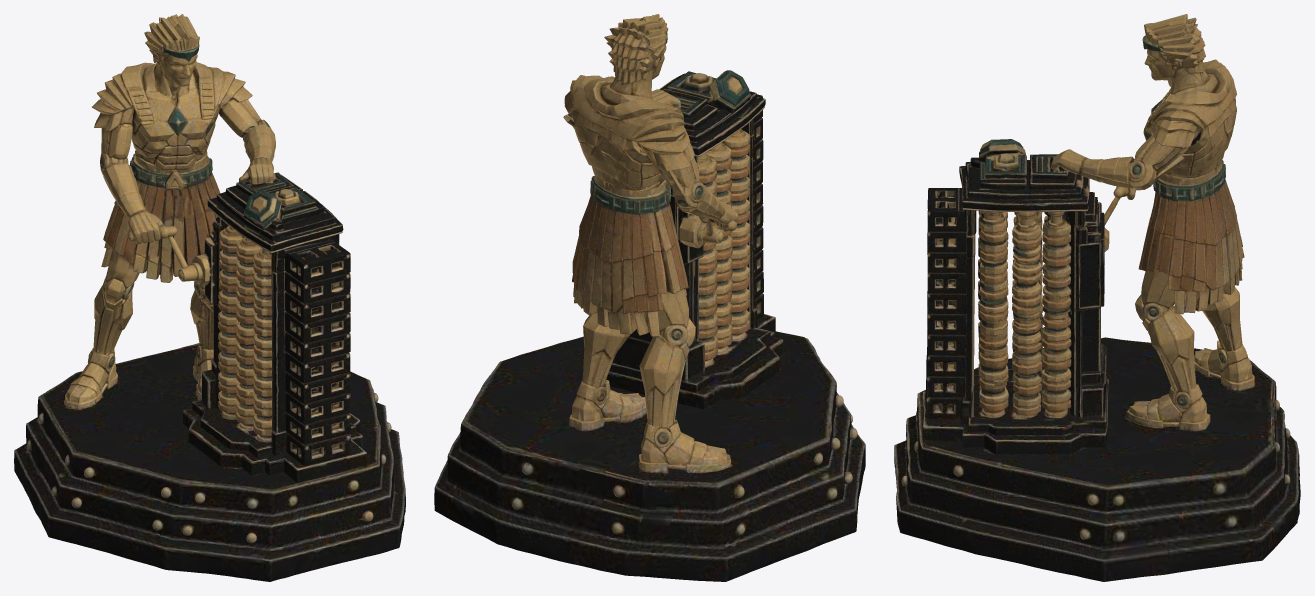
The model's file is computation-engine.glb.
3 views of the same model, side by side, from view 1: azimuth 30°, elevation 25°; view 2: azimuth 150°, elevation 25°; view 3: azimuth 270°, elevation 25° (orthographic). The views are drawn at different scales.
Bounding box in the file's own units: 1.54 × 1.9 × 1.49.
Materials: 1 (1 with a texture image).
